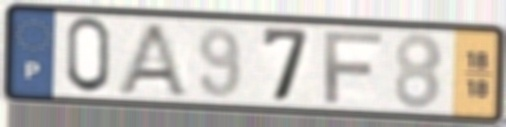0: (63, 14, 113, 98)
7: (258, 24, 315, 105)
8: (391, 30, 447, 113)
9: (195, 24, 247, 101)
A: (113, 20, 192, 100)
F: (321, 29, 385, 107)
